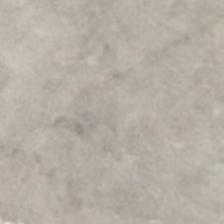Non_Crack: (11, 6, 206, 213)
